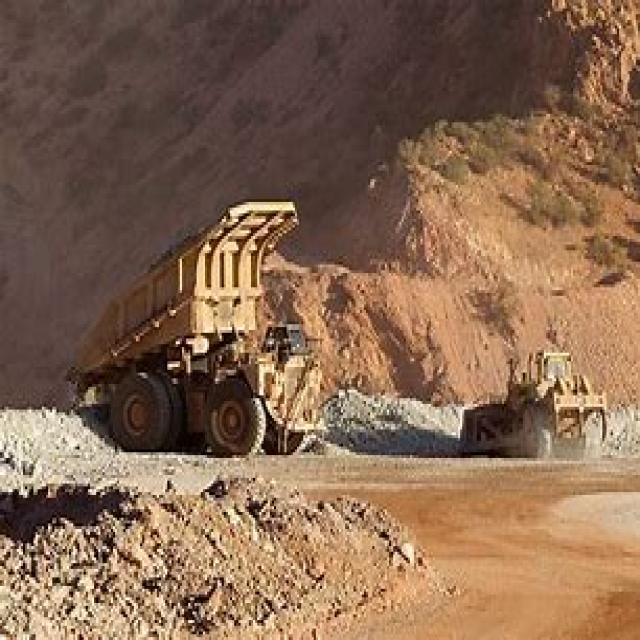buldozerpayloadergrader: (452, 333, 615, 469)
dump_truck: (65, 193, 326, 461)
